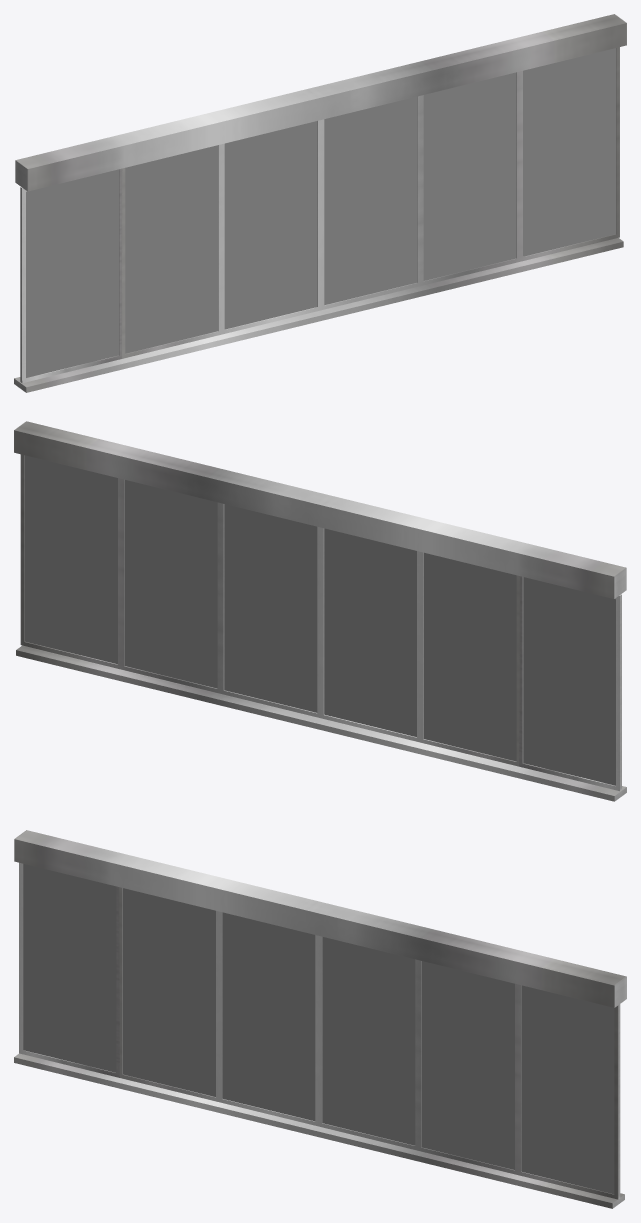
Rendered from automatic_teloscopic_doors.glb.
3 views of the same model, one above another, from view 1: azimuth 30°, elevation 25°; view 2: azimuth 150°, elevation 25°; view 3: azimuth 330°, elevation 25° (orthographic).
Visible parts, largest first — view 1: pCube5 (×6), pCube9, pCube6 (×6); view 2: pCube5 (×6), pCube9, pCube6 (×6); view 3: pCube5 (×6), pCube9, pCube6 (×6).
Boxes of the visible parts, x1,y1,x2,y2 form: pCube5 (×6): [26, 48, 615, 377]; pCube9: [14, 14, 626, 392]; pCube6 (×6): [20, 47, 619, 383]; pCube5 (×6): [25, 455, 615, 785]; pCube9: [14, 421, 626, 801]; pCube6 (×6): [20, 454, 621, 791]; pCube5 (×6): [23, 864, 614, 1194]; pCube9: [14, 830, 626, 1208]; pCube6 (×6): [19, 862, 620, 1199].
Size of the model in its own units: 28.28 by 10.09 by 1.05.
2 materials, 1 textured.
